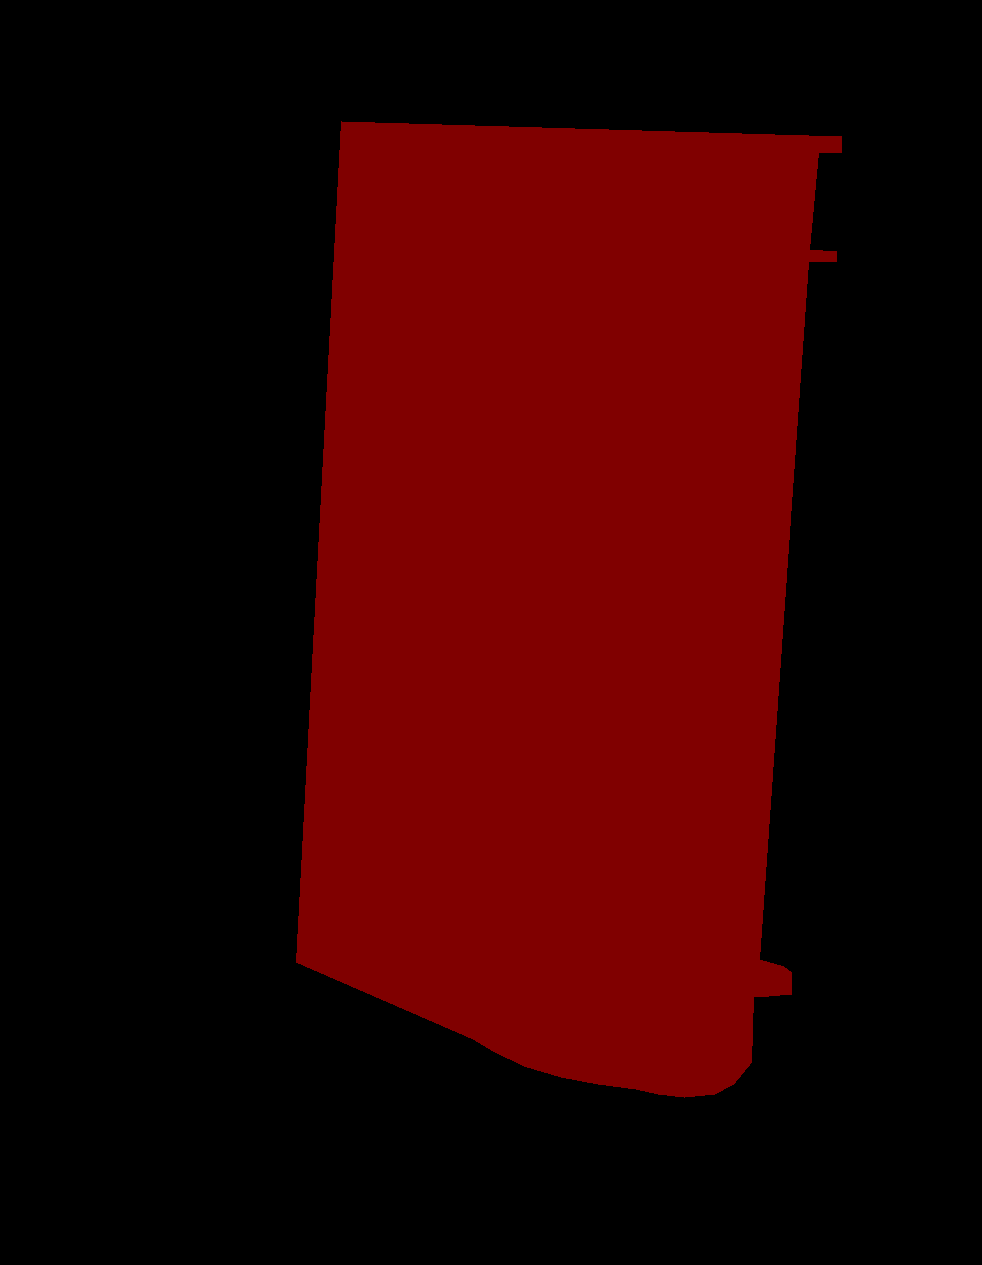sign: (296, 121, 841, 1097)
